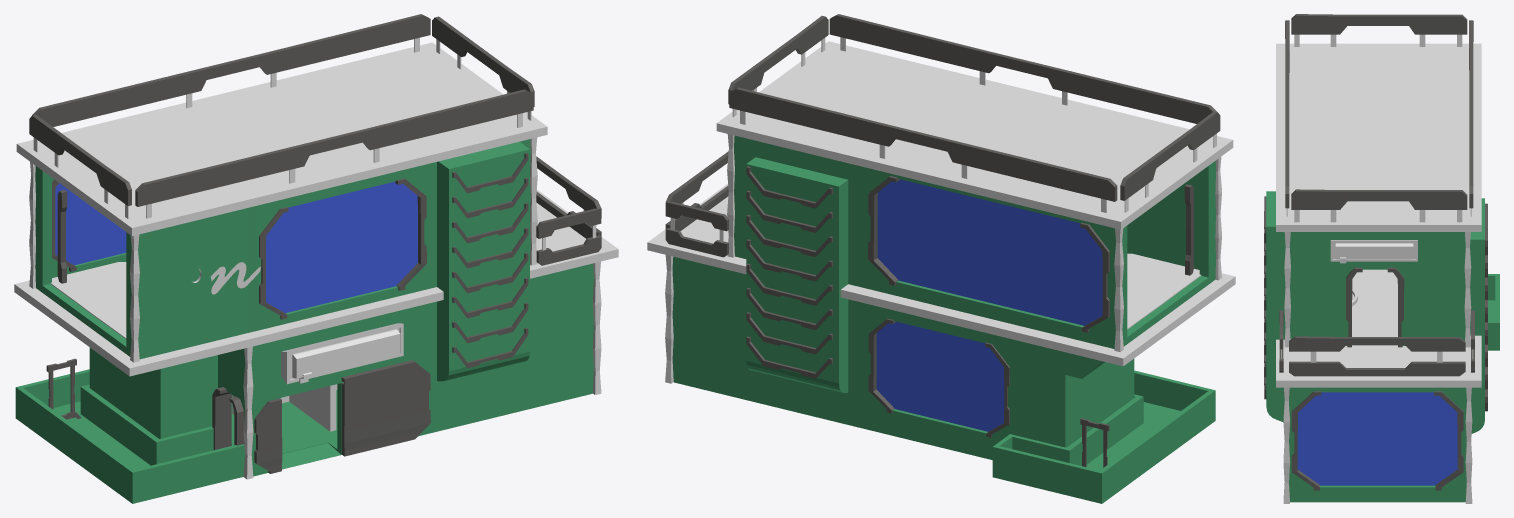
Rendered from Edificio.glb.
The picture shows the model from 3 angles, left to right: view 1: azimuth 30°, elevation 25°; view 2: azimuth 150°, elevation 25°; view 3: azimuth 270°, elevation 25°; orthographic projection. The views are drawn at different scales.
Visible parts, largest first — view 1: Techo 2, Piso1, Piso 2, Panel1, Cube.079, Pasillo, Base piso 2, Cube.014, Cube.058, Cube.105, Cube.009, Cube.107 (+19 smaller); view 2: Techo 2, Piso1, Cube.080, Piso 2, Panel 2, Pasillo, Cube.084, Base piso 2, Cube.058, Cube.014, Rejillas1, Cylinder (+14 smaller); view 3: Techo 2, Cube.081, Piso 2, Base piso 2, Piso1, Panel1, Cube.020, Cube.063, Panel 2, Cube.040, Cube.039, Cube.097 (+13 smaller).
Part boxes in pixels (<box>): Techo 2: <box>16,42,547,235</box>; Piso1: <box>89,263,593,476</box>; Piso 2: <box>35,139,530,359</box>; Panel1: <box>437,141,529,381</box>; Cube.079: <box>266,181,417,313</box>; Pasillo: <box>15,369,244,503</box>; Base piso 2: <box>14,189,618,376</box>; Cube.014: <box>135,89,533,206</box>; Cube.058: <box>32,14,430,126</box>; Cube.105: <box>341,360,430,456</box>; Cube.009: <box>452,153,528,367</box>; Cube.107: <box>281,323,403,384</box>; Techo 2: <box>716,41,1233,229</box>; Piso1: <box>672,256,1134,459</box>; Cube.080: <box>877,179,1102,325</box>; Piso 2: <box>734,135,1215,348</box>; Panel 2: <box>746,157,848,392</box>; Pasillo: <box>992,370,1215,503</box>; Cube.084: <box>876,321,1004,431</box>; Base piso 2: <box>647,184,1235,366</box>; Cube.058: <box>729,87,1117,201</box>; Cube.014: <box>829,14,1216,123</box>; Rejillas1: <box>746,166,832,378</box>; Cylinder: <box>1127,253,1201,329</box>; Techo 2: <box>1276,43,1481,231</box>; Cube.081: <box>1297,392,1457,485</box>; Piso 2: <box>1289,232,1465,345</box>; Base piso 2: <box>1276,269,1481,387</box>; Piso1: <box>1289,387,1466,502</box>; Panel1: <box>1266,191,1285,422</box>; Cube.020: <box>1291,14,1467,34</box>; Cube.063: <box>1291,189,1467,209</box>; Panel 2: <box>1470,198,1484,433</box>; Cube.040: <box>1289,361,1465,376</box>; Cube.039: <box>1289,336,1465,351</box>; Cube.097: <box>1330,240,1417,261</box>.
Size of what is drawn, in the model's own units: 33.18 by 20.91 by 15.53.
